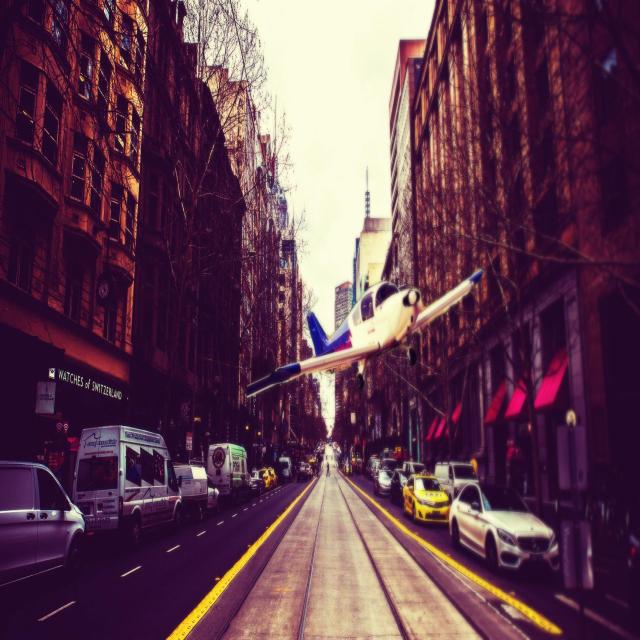airplane: (245, 267, 483, 400)
